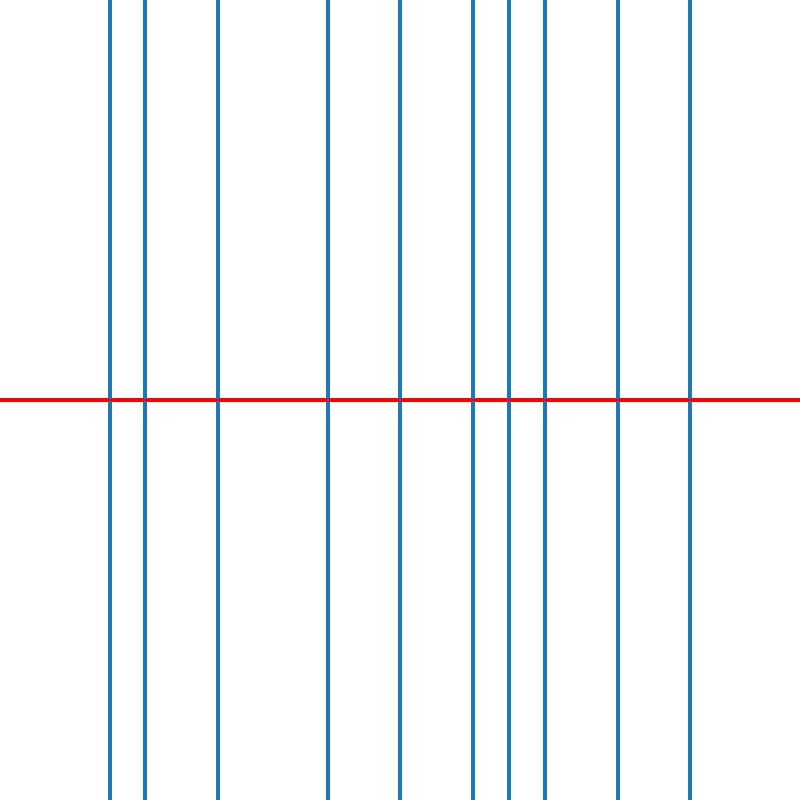root: (141, 396, 149, 404), (541, 396, 549, 404), (396, 396, 403, 404), (469, 396, 476, 404), (323, 396, 330, 404), (105, 396, 112, 404), (505, 396, 512, 404), (687, 396, 694, 404), (614, 396, 621, 404), (214, 396, 221, 404)
